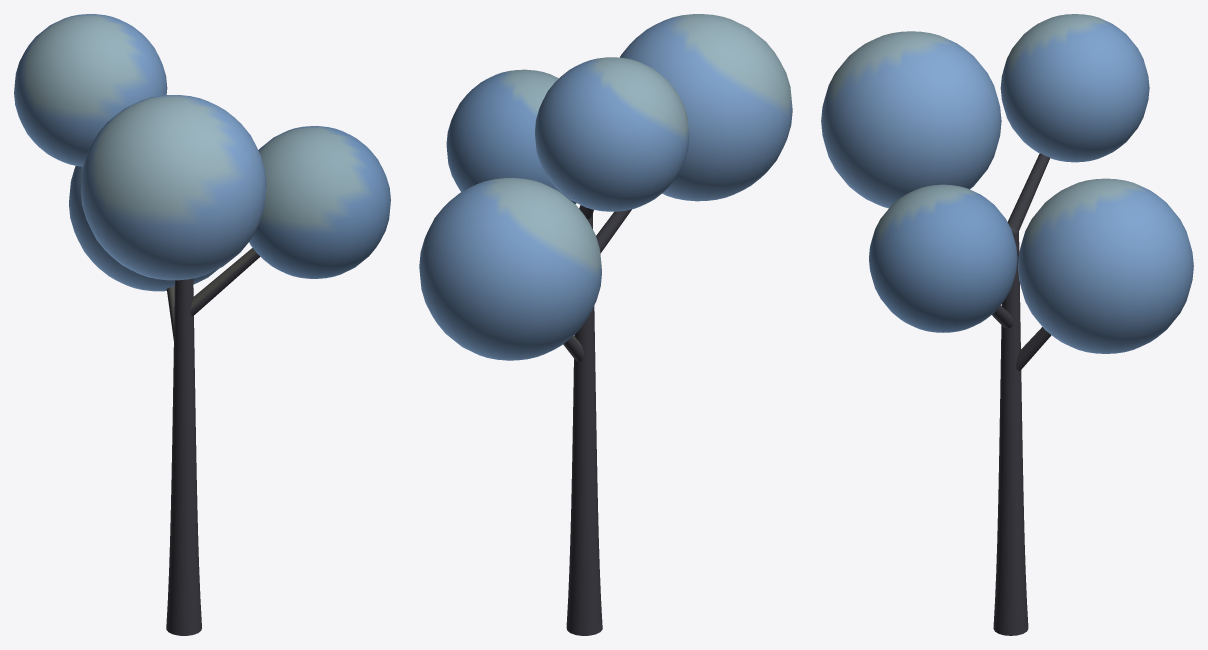
File: sprig-tree.obj
3 views of the same model, side by side, from view 1: azimuth 30°, elevation 25°; view 2: azimuth 150°, elevation 25°; view 3: azimuth 270°, elevation 25° (orthographic). The views are drawn at different scales.
Parts seen in each view (by area): view 1: tree; view 2: tree; view 3: tree.
Part boxes in pixels (x1=…): tree: x1=14, y1=14, x2=390, y2=635; tree: x1=419, y1=14, x2=792, y2=635; tree: x1=821, y1=14, x2=1193, y2=635.
Bounding box in the file's own units: 210 × 394 × 230.
